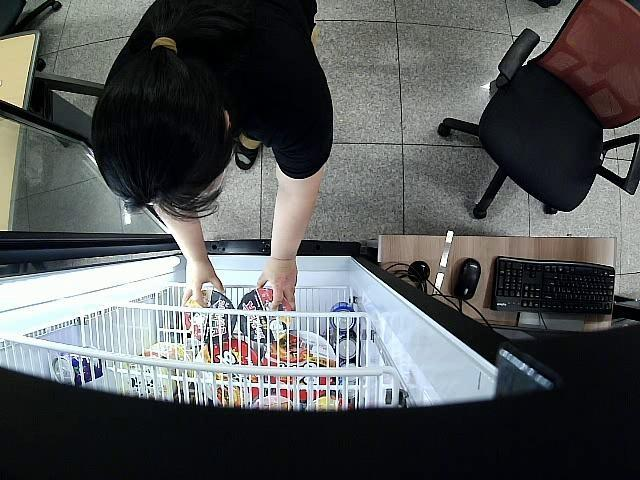07_buldak_L: (238, 288, 293, 342), (184, 290, 235, 344)
